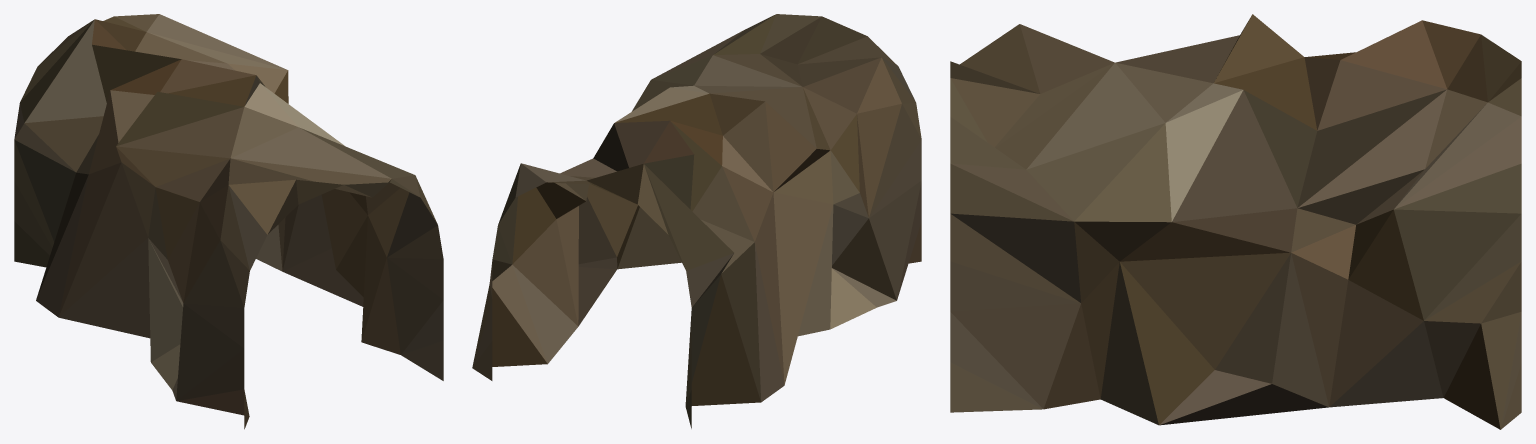
File: Cave-Hall10mA.fbx
The picture shows the model from 3 angles, left to right: view 1: azimuth 30°, elevation 25°; view 2: azimuth 150°, elevation 25°; view 3: azimuth 270°, elevation 25°; orthographic projection. The views are drawn at different scales.
Parts seen in each view (by area): view 1: Cave-Hall10mA; view 2: Cave-Hall10mA; view 3: Cave-Hall10mA.
Part boxes in pixels (bbox=[...]): Cave-Hall10mA: bbox=[14, 14, 443, 429]; Cave-Hall10mA: bbox=[472, 14, 921, 428]; Cave-Hall10mA: bbox=[950, 14, 1521, 429].
Size of the model in its own units: 633 by 577 by 1000.
